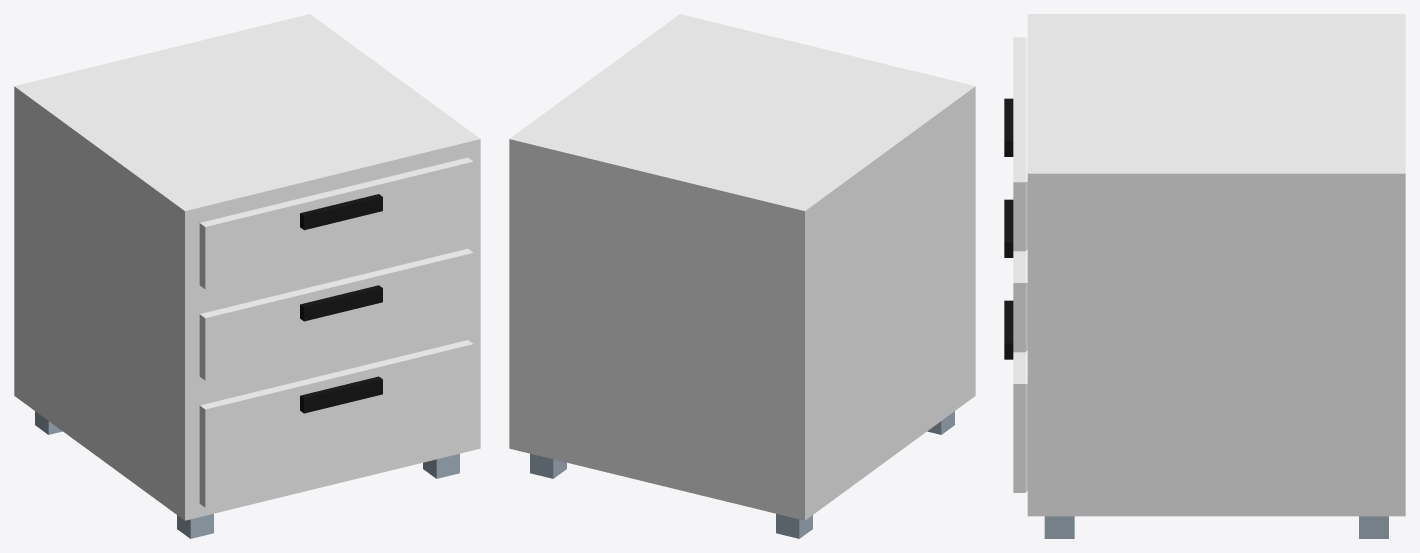
File: cabinet-small.fbx
The picture shows the model from 3 angles, left to right: view 1: azimuth 30°, elevation 25°; view 2: azimuth 150°, elevation 25°; view 3: azimuth 270°, elevation 25°; orthographic projection. The views are drawn at different scales.
Visible parts, largest first — view 1: cabinet-small; view 2: cabinet-small; view 3: cabinet-small.
Boxes of the visible parts, x1=… form: cabinet-small: x1=14, y1=14, x2=480, y2=538; cabinet-small: x1=509, y1=14, x2=975, y2=538; cabinet-small: x1=1004, y1=14, x2=1405, y2=538.
Size of the model in its own units: 0.8049 by 0.8752 by 0.8551.
Materials: 1 (1 with a texture image).
